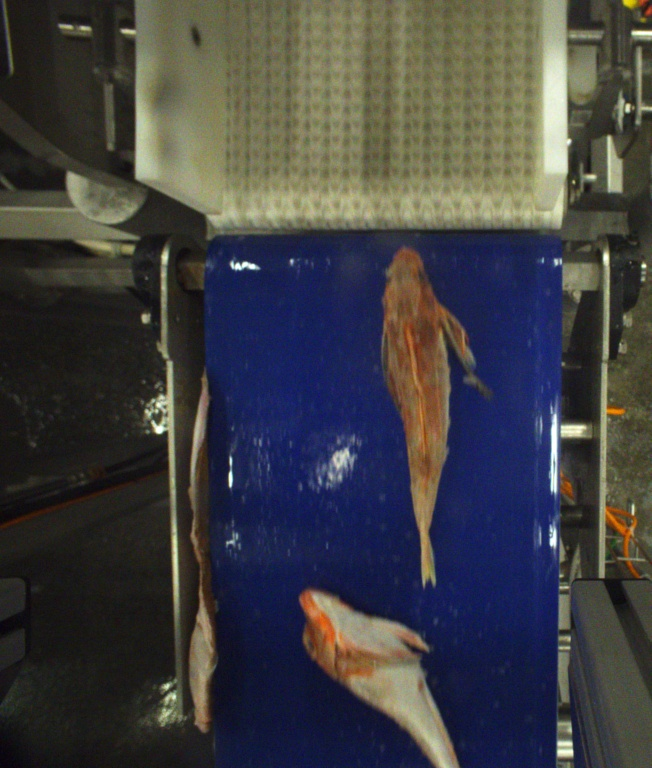GUU: (382, 246, 478, 591)
